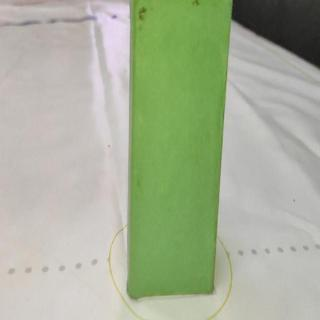greenbox: (129, 1, 232, 297)
